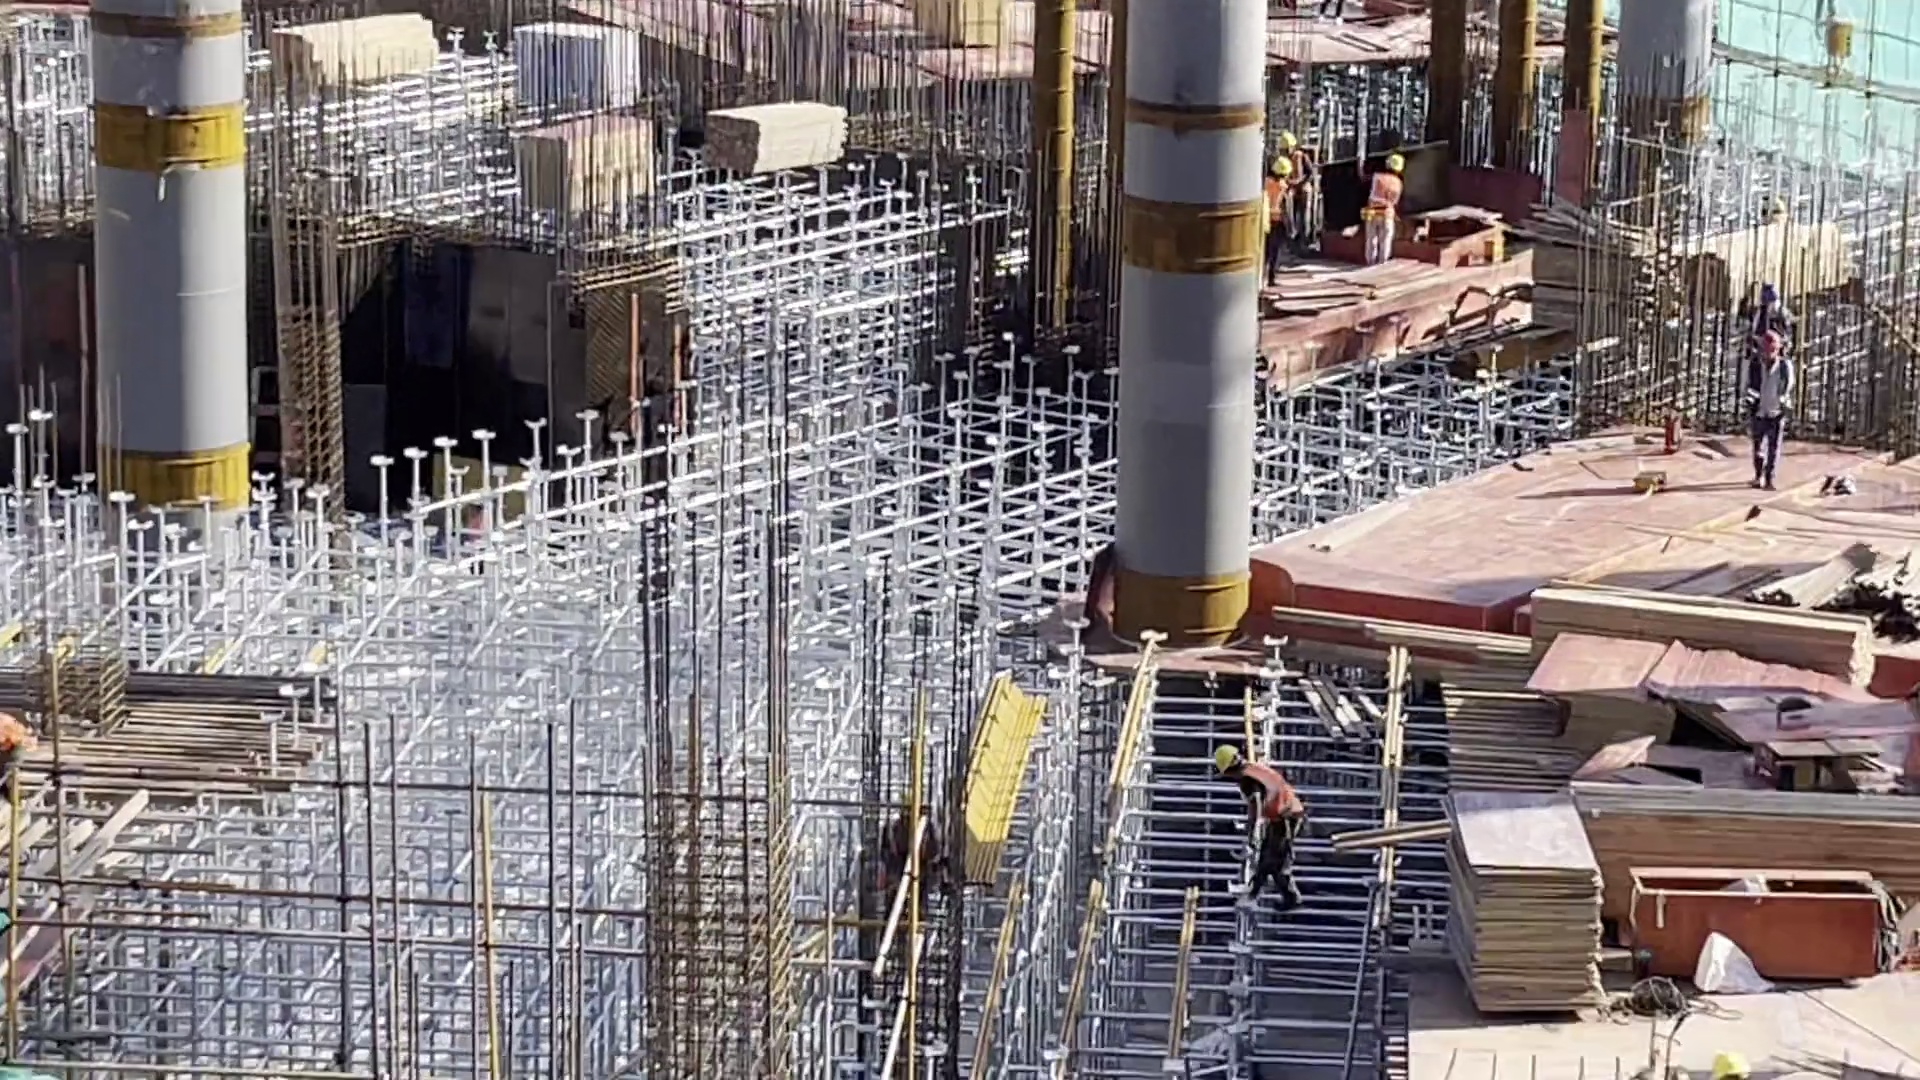board: (1444, 783, 1603, 1026), (1543, 636, 1670, 769), (515, 113, 653, 216)
cutter: (1724, 698, 1915, 795), (1411, 205, 1505, 269)
ebox: (1817, 13, 1855, 81)
helmet: (1214, 742, 1238, 776), (1758, 331, 1779, 354), (1279, 133, 1297, 151), (1272, 157, 1292, 173), (1388, 154, 1405, 171)
person: (1210, 743, 1314, 920), (1746, 331, 1789, 490), (1275, 130, 1321, 255), (1362, 154, 1405, 271), (1, 708, 40, 797), (1263, 157, 1290, 284)
vest: (1242, 766, 1299, 825), (1746, 358, 1788, 422), (1367, 172, 1401, 224), (1263, 176, 1289, 224)
wood: (1528, 574, 1871, 698), (1738, 525, 1920, 672), (1664, 213, 1851, 317), (267, 11, 442, 92), (698, 97, 847, 172)
